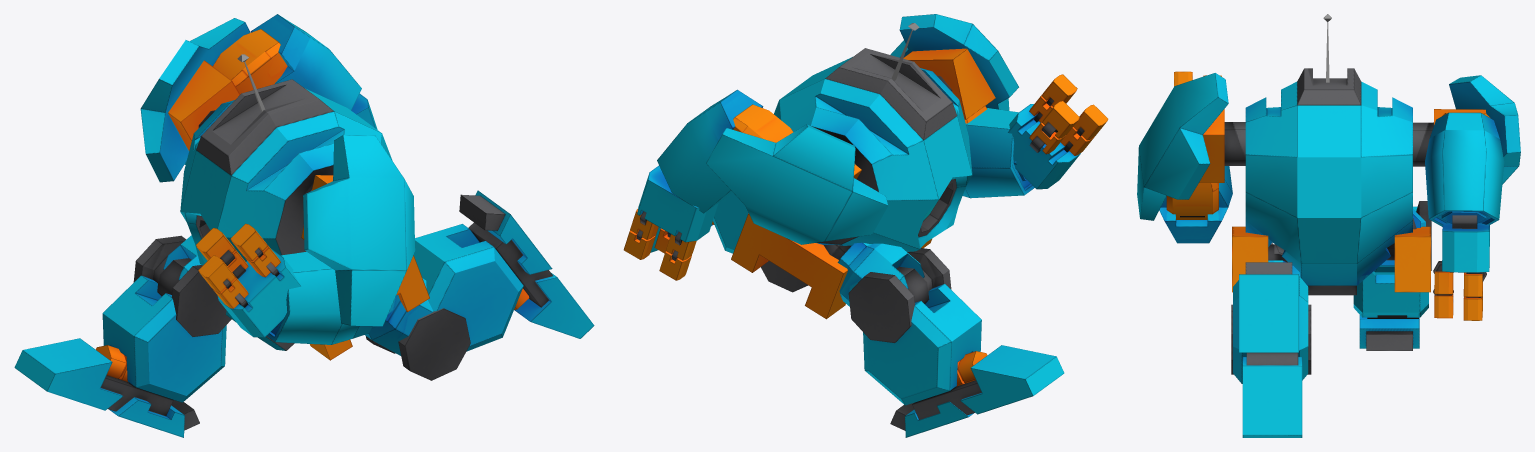
Rendered from Walk39.obj.
3 renders of one model, left to right at view 1: azimuth 30°, elevation 25°; view 2: azimuth 150°, elevation 25°; view 3: azimuth 270°, elevation 25°, orthographic. The views are drawn at different scales.
Parts seen in each view (by area): view 1: Plane001, Object006, Object010, Object013, Object002, Object011, Object008, Object014, Object007, Object003, Object012, Object009; view 2: Plane001, Object002, Object010, Object011, Object006, Object008, Object003, Object004, Object007, Object009, Object013; view 3: Plane001, Object006, Object014, Object003, Object004, Object002, Object010, Object011, Object013, Object007, Object005, Object001 (+1 smaller).
Boxes of the visible parts, x1=… form: Plane001: x1=180, y1=79, x2=429, y2=360; Object006: x1=301, y1=135, x2=415, y2=326; Object010: x1=102, y1=235, x2=231, y2=402; Object013: x1=366, y1=224, x2=523, y2=380; Object002: x1=140, y1=18, x2=287, y2=182; Object011: x1=14, y1=338, x2=199, y2=437; Object008: x1=196, y1=223, x2=300, y2=337; Object014: x1=459, y1=190, x2=594, y2=338; Object007: x1=266, y1=251, x2=372, y2=344; Object003: x1=250, y1=14, x2=361, y2=110; Object012: x1=365, y1=278, x2=433, y2=355; Object009: x1=163, y1=235, x2=201, y2=280; Plane001: x1=731, y1=48, x2=972, y2=319; Object002: x1=706, y1=104, x2=888, y2=244; Object010: x1=848, y1=248, x2=981, y2=405; Object011: x1=890, y1=345, x2=1064, y2=437; Object006: x1=890, y1=14, x2=1018, y2=123; Object008: x1=1008, y1=74, x2=1108, y2=189; Object003: x1=657, y1=89, x2=763, y2=213; Object004: x1=623, y1=165, x2=718, y2=280; Object007: x1=962, y1=108, x2=1034, y2=198; Object009: x1=823, y1=242, x2=924, y2=306; Object013: x1=713, y1=192, x2=807, y2=292; Plane001: x1=1232, y1=68, x2=1430, y2=295; Object006: x1=1137, y1=73, x2=1228, y2=220; Object014: x1=1239, y1=262, x2=1302, y2=437; Object003: x1=1425, y1=112, x2=1504, y2=226; Object004: x1=1433, y1=215, x2=1489, y2=320; Object002: x1=1433, y1=75, x2=1520, y2=184; Object010: x1=1353, y1=201, x2=1431, y2=317; Object011: x1=1359, y1=206, x2=1419, y2=350; Object013: x1=1231, y1=276, x2=1311, y2=383; Object007: x1=1159, y1=166, x2=1232, y2=243; Object005: x1=1224, y1=122, x2=1245, y2=165; Object001: x1=1413, y1=122, x2=1433, y2=166.
Size of the model in its own units: 241 by 184 by 182.
